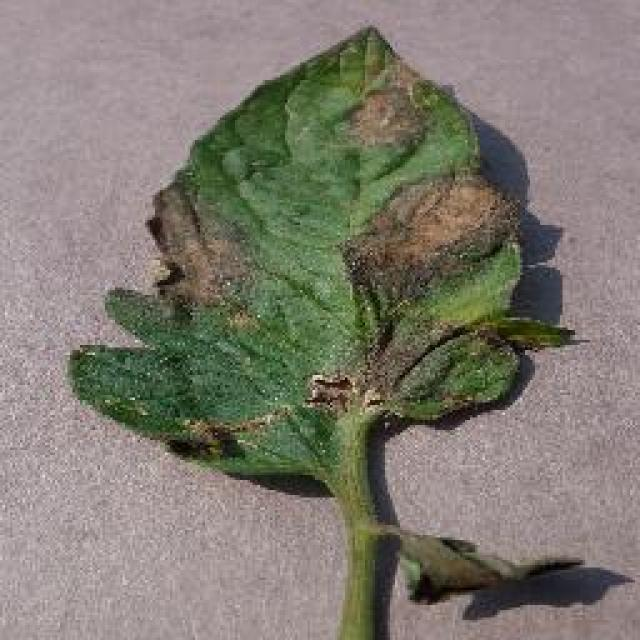Tomato___Late_blight: (65, 25, 575, 638)
